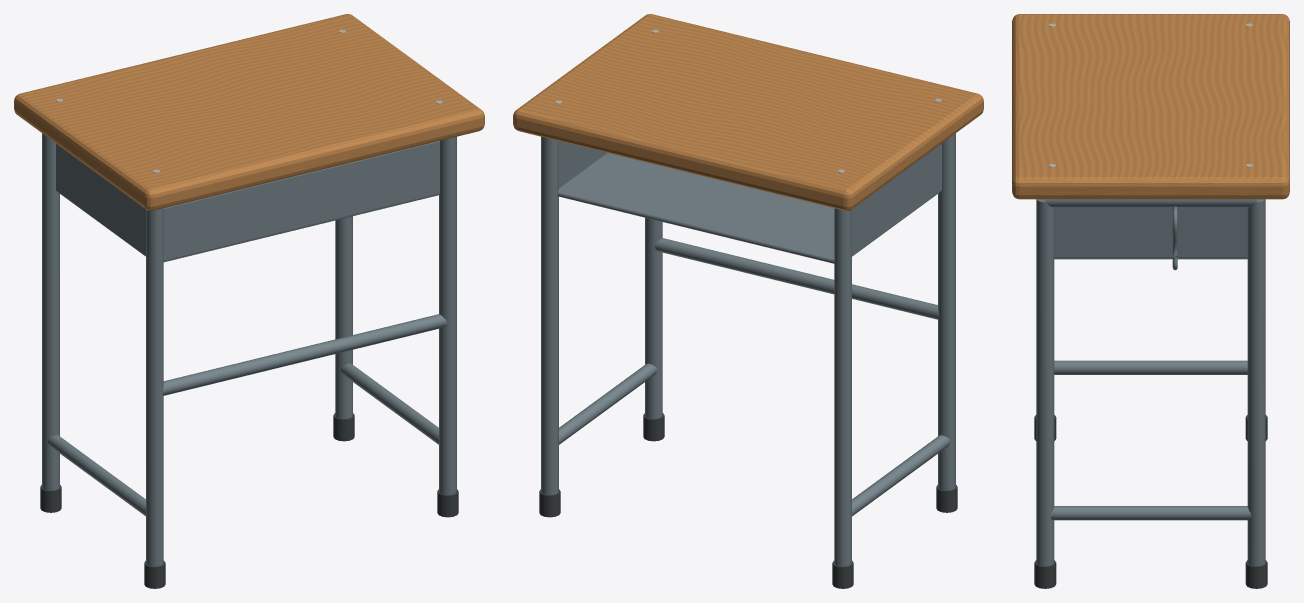
File: prop_school_desk_blender_v1.glb
The picture shows the model from 3 angles, left to right: view 1: azimuth 30°, elevation 25°; view 2: azimuth 150°, elevation 25°; view 3: azimuth 270°, elevation 25°; orthographic projection.
Parts seen in each view (by area): view 1: Desk_wood, Desk_steel, Desk_rubber; view 2: Desk_wood, Desk_steel, Desk_rubber; view 3: Desk_wood, Desk_steel, Desk_rubber.
Boxes of the visible parts, bbox=[...] form: Desk_wood: bbox=[14, 14, 484, 210]; Desk_steel: bbox=[42, 133, 456, 566]; Desk_rubber: bbox=[40, 413, 458, 588]; Desk_wood: bbox=[513, 14, 983, 210]; Desk_steel: bbox=[541, 133, 955, 566]; Desk_rubber: bbox=[539, 413, 957, 588]; Desk_wood: bbox=[1012, 14, 1289, 199]; Desk_steel: bbox=[1036, 199, 1265, 566]; Desk_rubber: bbox=[1034, 415, 1267, 588].
Bounding box in the file's own units: 0.6865 × 0.761 × 0.46.
Materials: 4 (1 with a texture image).
